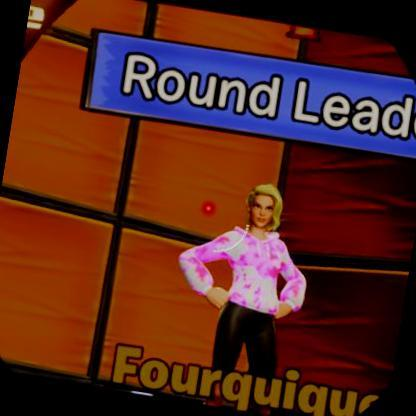person: (204, 174, 305, 408)
